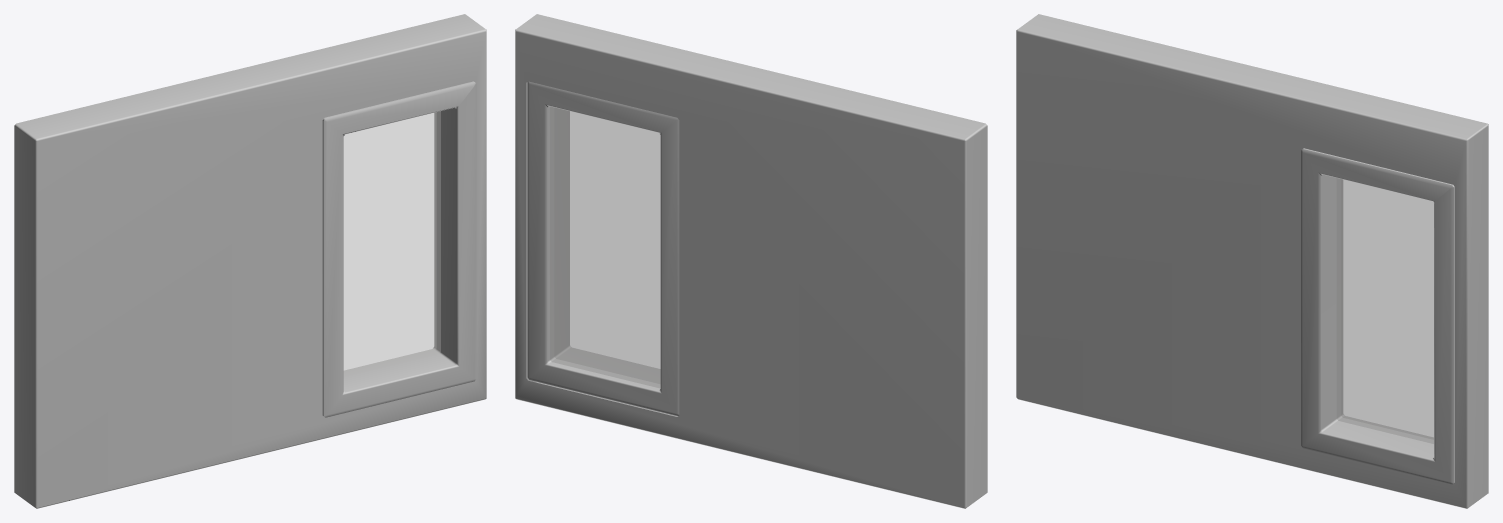
File: Wall_60.fbx
3 renders of one model, left to right at view 1: azimuth 30°, elevation 25°; view 2: azimuth 150°, elevation 25°; view 3: azimuth 330°, elevation 25°, orthographic.
Visible parts, largest first — view 1: Wall_60; view 2: Wall_60; view 3: Wall_60.
Boxes of the visible parts, bbox=[...] form: Wall_60: bbox=[14, 14, 486, 508]; Wall_60: bbox=[515, 14, 987, 508]; Wall_60: bbox=[1016, 14, 1488, 508].
Bounding box in the file's own units: 460 × 360 × 43.1.
